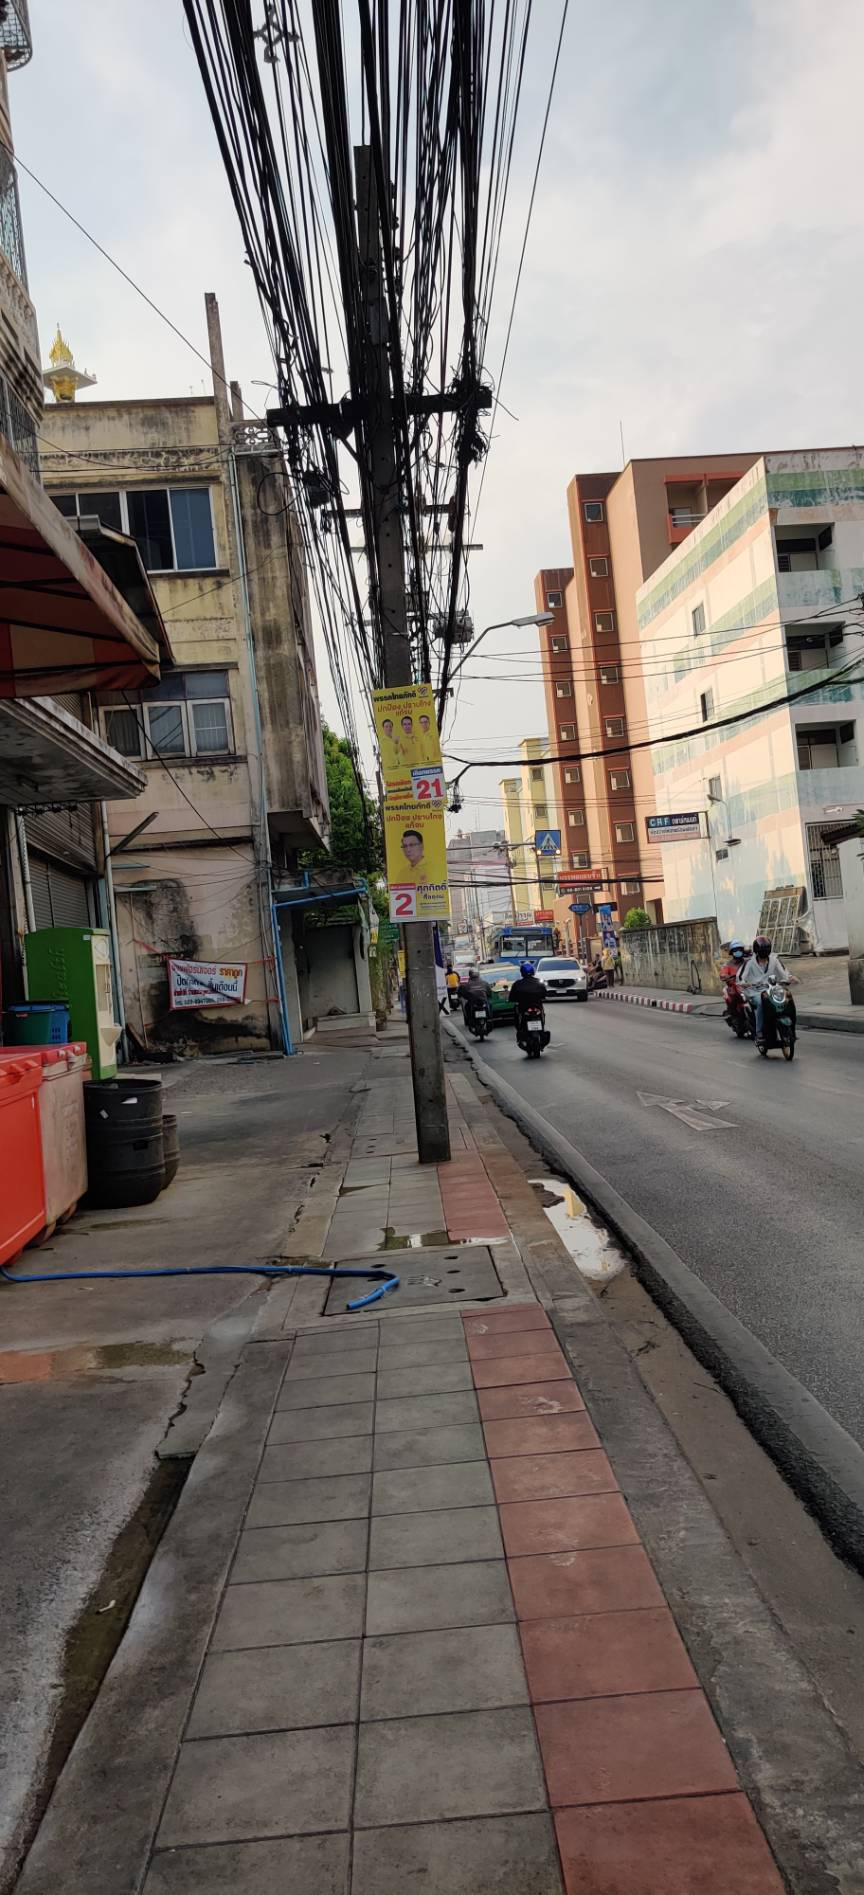Banner: (366, 680, 454, 923)
